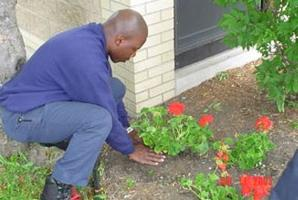person: (2, 9, 166, 200)
